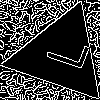L: (35, 30, 91, 72)
